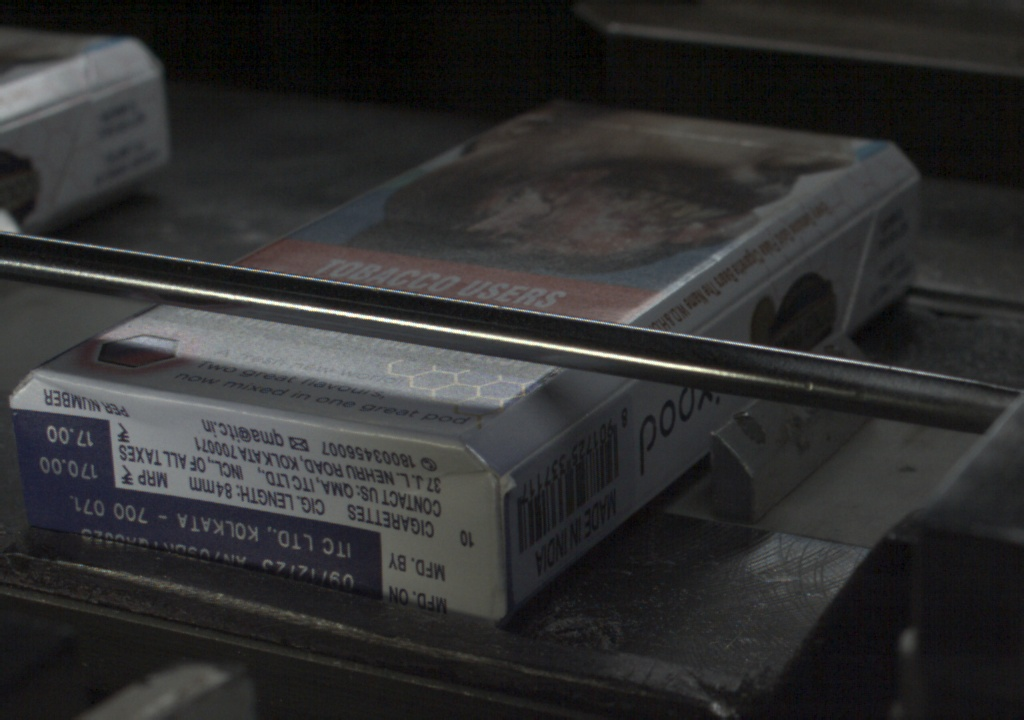g_label: (17, 488, 380, 596)
g_lmiter: (696, 265, 786, 331), (786, 205, 869, 265), (518, 420, 580, 462), (576, 383, 629, 425)
g_miter: (875, 170, 919, 206)
ng_bottom: (9, 372, 505, 624)
price: (14, 415, 114, 485)
